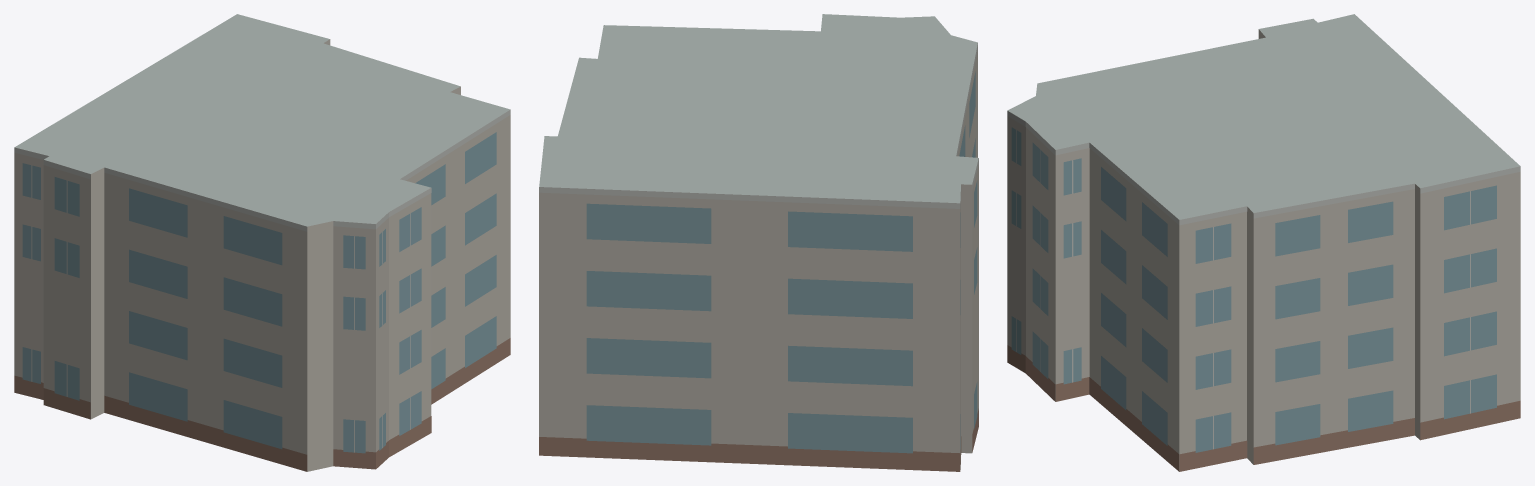
Rendered from survey-upis-32914464.glb.
3 renders of one model, left to right at view 1: azimuth 30°, elevation 25°; view 2: azimuth 150°, elevation 25°; view 3: azimuth 270°, elevation 25°, orthographic. The views are drawn at different scales.
Parts seen in each view (by area): view 1: survey-upis-32914464.tmp; view 2: survey-upis-32914464.tmp; view 3: survey-upis-32914464.tmp.
Boxes of the visible parts, box(x1,y1,x2,y2) form: survey-upis-32914464.tmp: box(14, 14, 510, 471); survey-upis-32914464.tmp: box(539, 14, 978, 471); survey-upis-32914464.tmp: box(1007, 14, 1520, 471).
Size of the model in its own units: 20 by 11.4 by 21.07.
